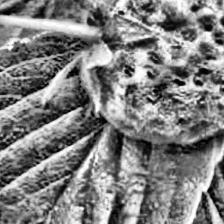Powdery Mildew Fruit: (67, 0, 224, 145)
